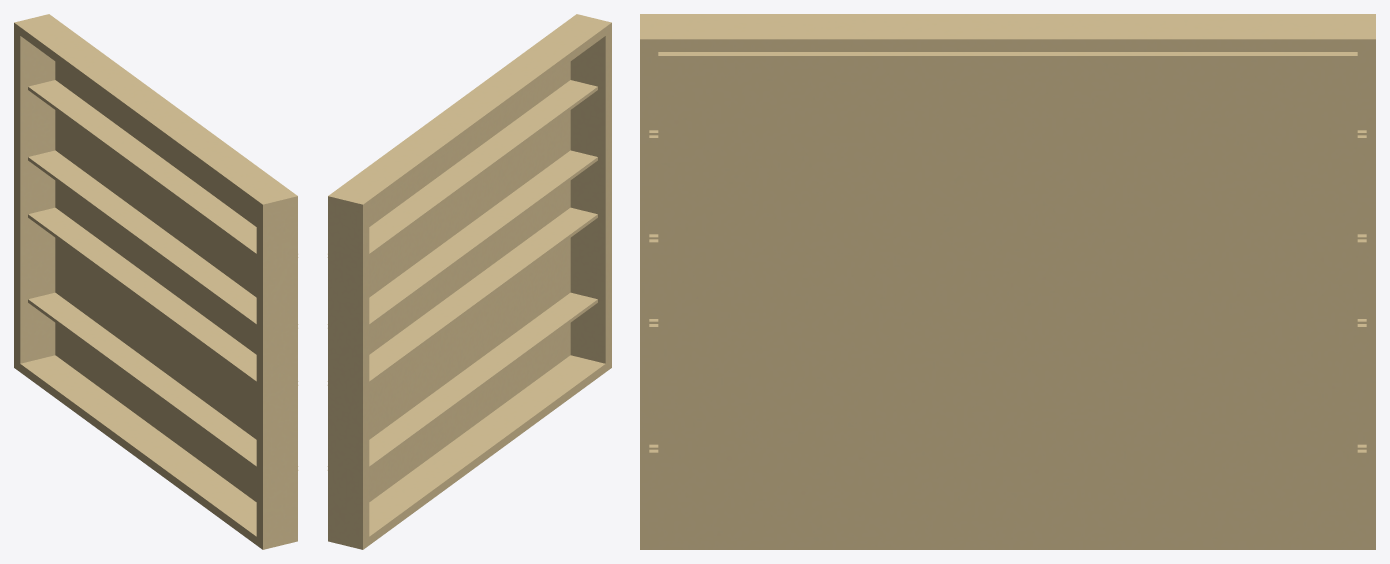
The model's file is Medical_Cabinet1.fbx.
3 views of the same model, side by side, from view 1: azimuth 30°, elevation 25°; view 2: azimuth 150°, elevation 25°; view 3: azimuth 270°, elevation 25° (orthographic). The views are drawn at different scales.
Visible parts, largest first — view 1: Medical_Cabinet1; view 2: Medical_Cabinet1; view 3: Medical_Cabinet1.
Part boxes in pixels (x1,y1,x2,y2): Medical_Cabinet1: (14, 14, 298, 549); Medical_Cabinet1: (327, 14, 611, 549); Medical_Cabinet1: (640, 14, 1375, 549).
Bounding box in the file's own units: 115 × 939 × 1227.
